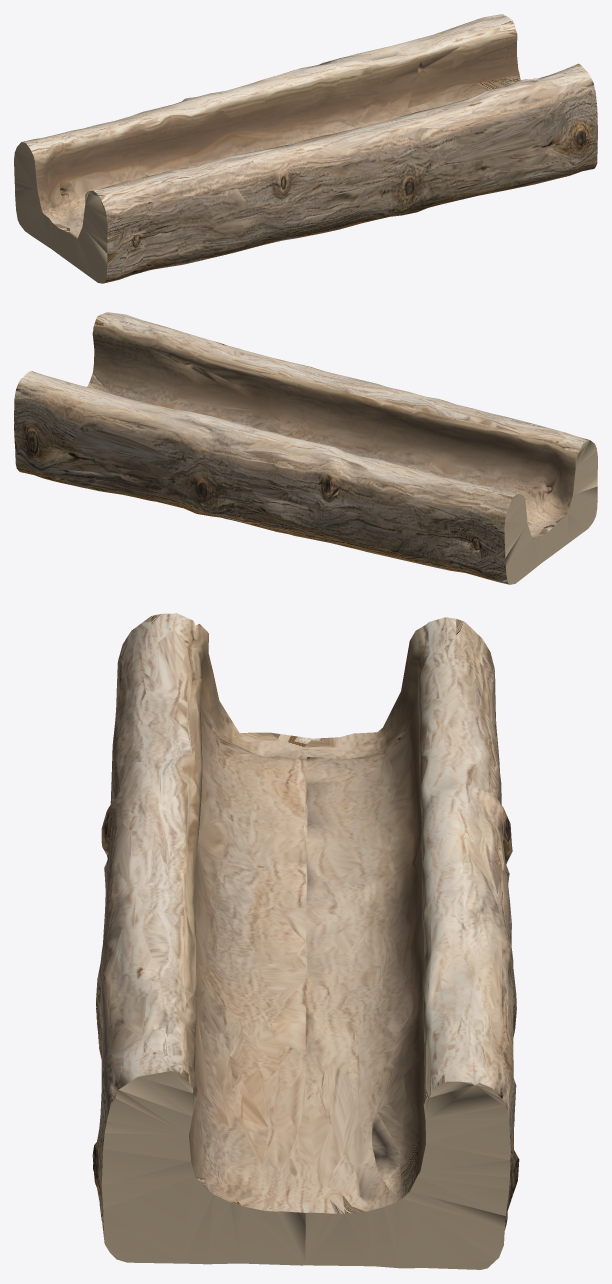
File: channel-straight-v1.glb
3 views of the same model, one above another, from view 1: azimuth 30°, elevation 25°; view 2: azimuth 150°, elevation 25°; view 3: azimuth 270°, elevation 25° (orthographic). The views are drawn at different scales.
Visible parts, largest first — view 1: tripo_node_21ed7566-d44f-494e-8ca4-f602356ae03c; view 2: tripo_node_21ed7566-d44f-494e-8ca4-f602356ae03c; view 3: tripo_node_21ed7566-d44f-494e-8ca4-f602356ae03c.
Part boxes in pixels (bbox=[...]): tripo_node_21ed7566-d44f-494e-8ca4-f602356ae03c: bbox=[14, 14, 597, 283]; tripo_node_21ed7566-d44f-494e-8ca4-f602356ae03c: bbox=[14, 312, 597, 584]; tripo_node_21ed7566-d44f-494e-8ca4-f602356ae03c: bbox=[92, 613, 519, 1269].
Bounding box in the file's own units: 1 × 0.2001 × 0.3801.
Materials: 2 (1 with a texture image).
